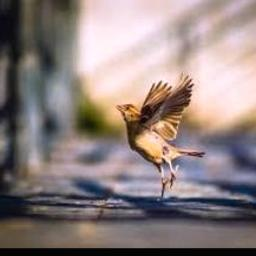Sparrow: (116, 72, 204, 201)
